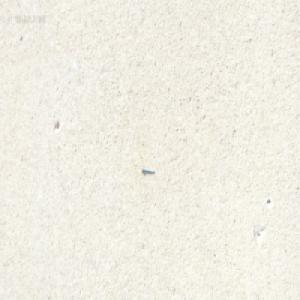Nail: (141, 164, 154, 173)
